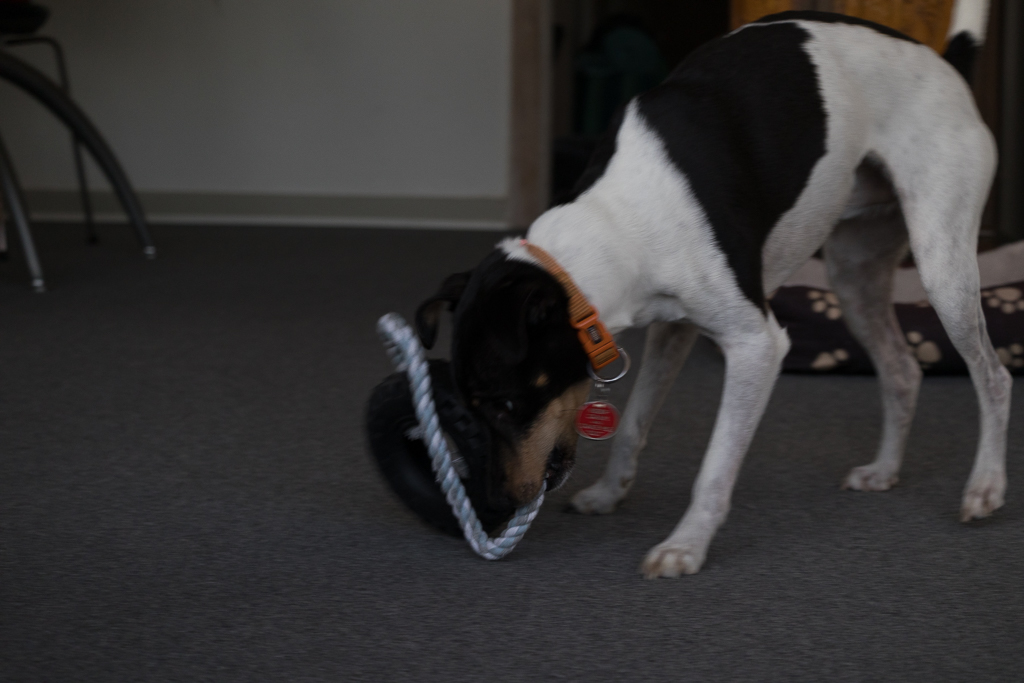Dog: (400, 0, 1024, 587)
